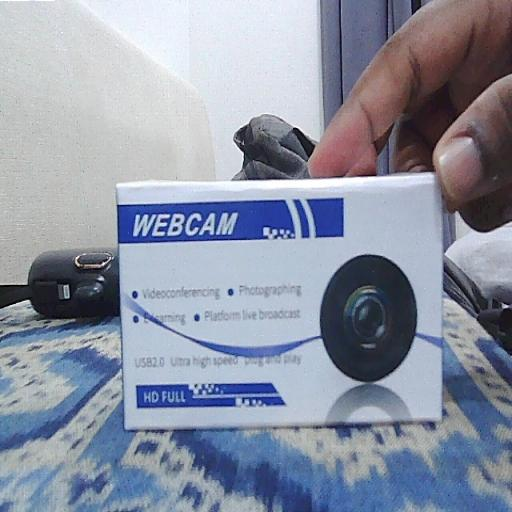webcam_box: (117, 173, 445, 432)
